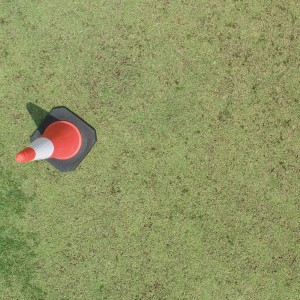traffic cone: (16, 107, 96, 172)
